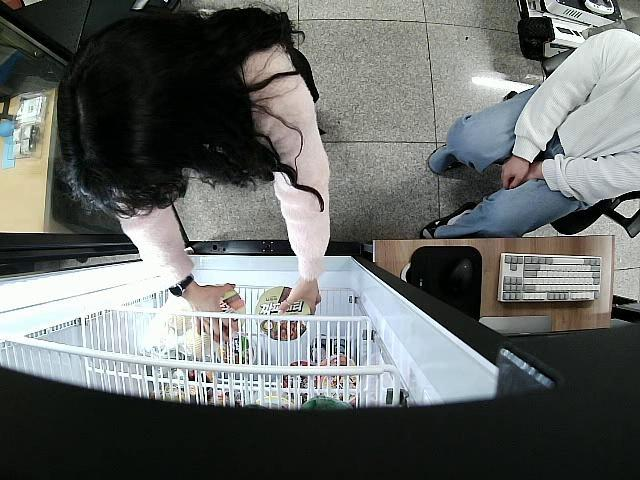03_chapagetti_L: (258, 288, 310, 341), (204, 290, 246, 338)
